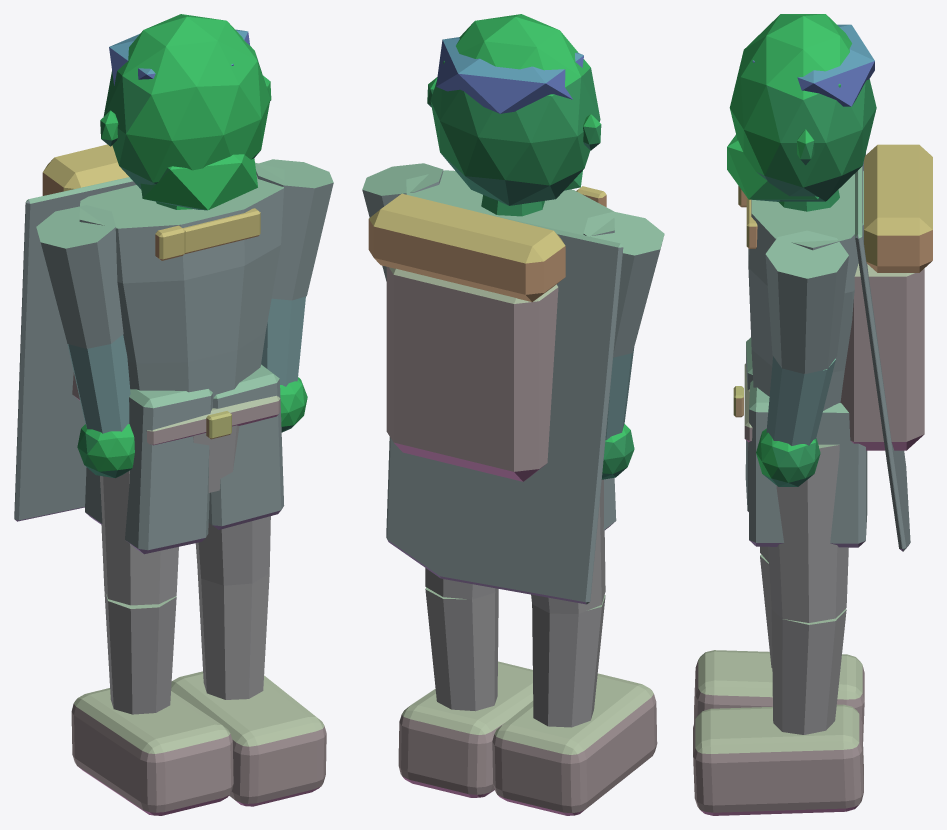
File: npc_traveller_down_r_v01.glb
3 views of the same model, side by side, from view 1: azimuth 30°, elevation 25°; view 2: azimuth 150°, elevation 25°; view 3: azimuth 270°, elevation 25° (orthographic).
Visible parts, largest first — view 1: GEO_npc_traveller_down_r_v01; view 2: GEO_npc_traveller_down_r_v01; view 3: GEO_npc_traveller_down_r_v01.
Boxes of the visible parts, x1=… form: GEO_npc_traveller_down_r_v01: x1=14, y1=14, x2=333, y2=815; GEO_npc_traveller_down_r_v01: x1=362, y1=14, x2=664, y2=815; GEO_npc_traveller_down_r_v01: x1=693, y1=14, x2=932, y2=815.
Size of the model in its own units: 0.8244 by 2.07 by 0.5918.
